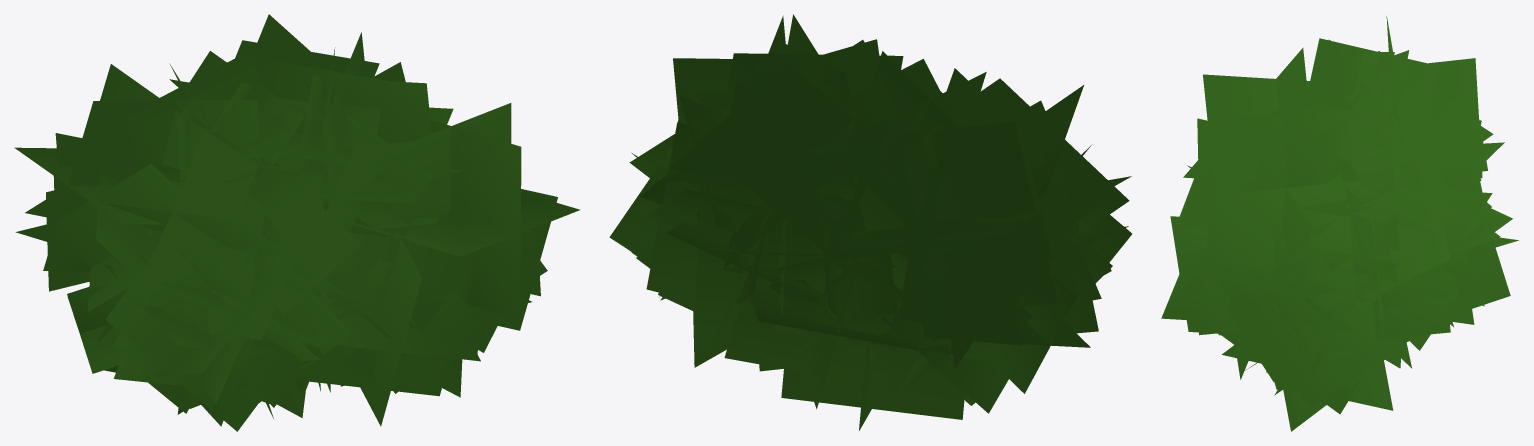
Rendered from SM_bush_04.fbx.
The picture shows the model from 3 angles, left to right: view 1: azimuth 30°, elevation 25°; view 2: azimuth 150°, elevation 25°; view 3: azimuth 270°, elevation 25°; orthographic projection. The views are drawn at different scales.
Parts seen in each view (by area): view 1: bush_04; view 2: bush_04; view 3: bush_04.
Part boxes in pixels (left/top/right/bottom): bush_04: left=14, top=14, right=580, bottom=431; bush_04: left=609, top=14, right=1132, bottom=430; bush_04: left=1161, top=16, right=1518, bottom=431.
Bounding box in the file's own units: 774 × 568 × 599.
